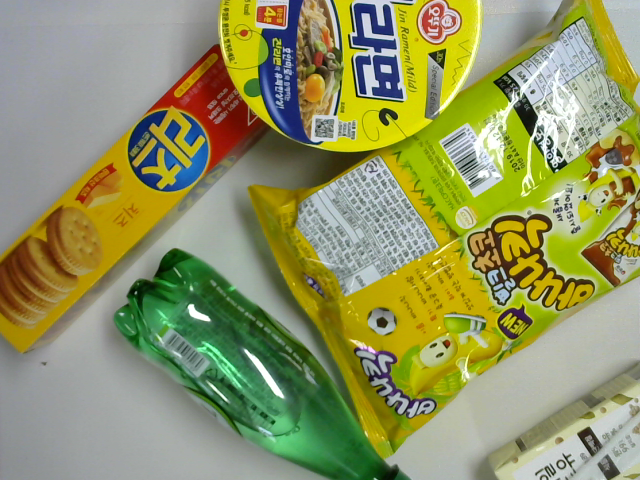99.89_Soymilk: (484, 358, 638, 480)
Banana_Kick: (245, 2, 640, 462)
Jinlamyeon_Mild_Taste_Large_Cup: (217, 1, 486, 161)
Ritz_Sand_Cracker: (1, 41, 274, 355)
Treviraim_500ml: (111, 242, 409, 480)
